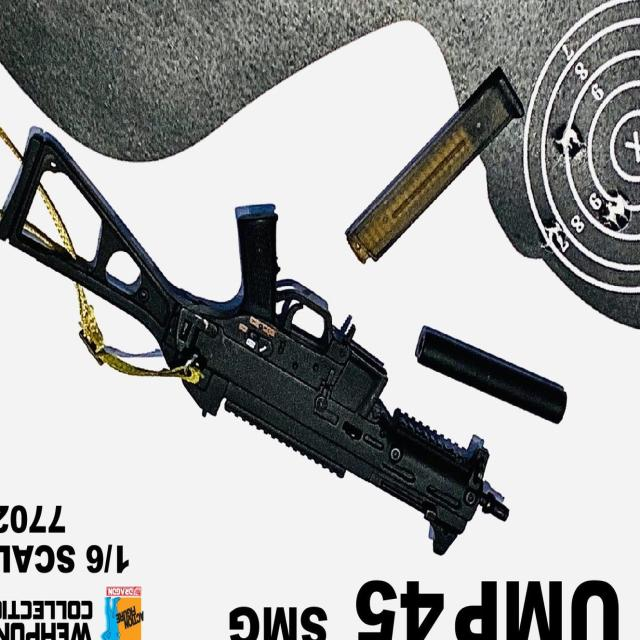Gun: (0, 93, 502, 563)
